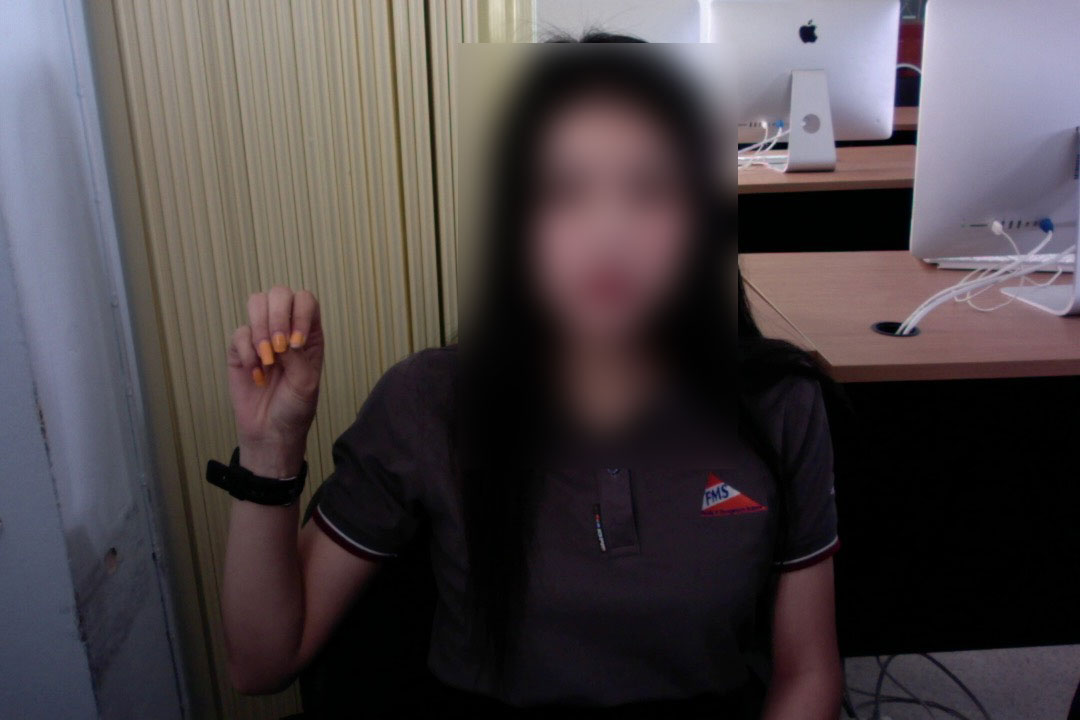mor: (215, 276, 334, 450)
